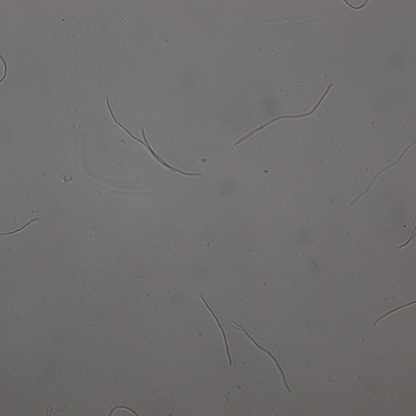Sensitive: (234, 83, 332, 143), (105, 99, 174, 173), (235, 322, 291, 392), (353, 141, 416, 203), (143, 130, 201, 176), (201, 294, 232, 365), (376, 299, 416, 325), (1, 217, 39, 242)
